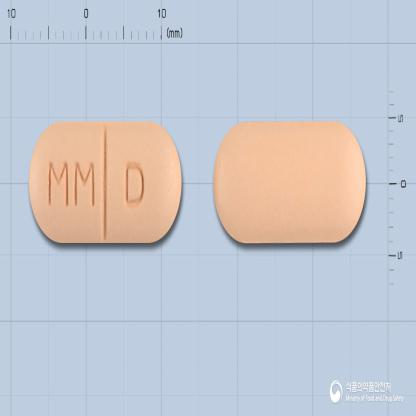pill: (27, 118, 183, 246), (211, 121, 368, 244)
